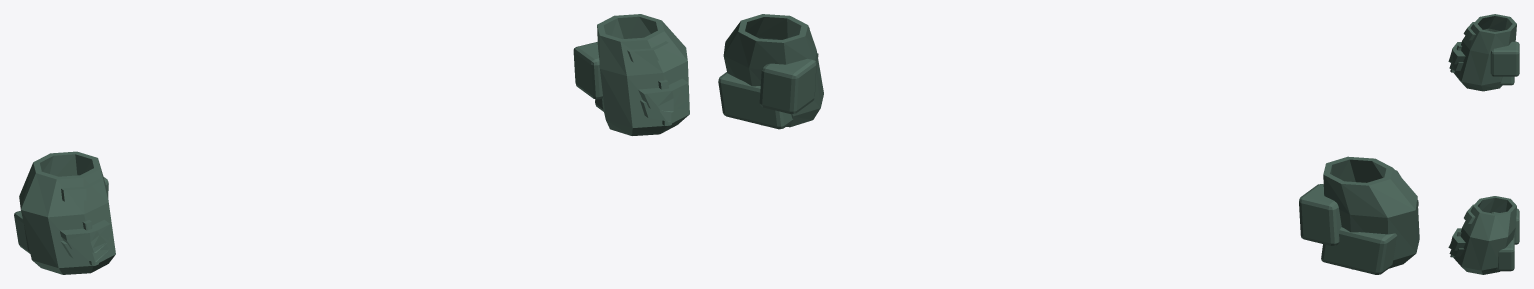
The model's file is leather_hands-female-scaledHide.glb.
3 views of the same model, side by side, from view 1: azimuth 30°, elevation 25°; view 2: azimuth 150°, elevation 25°; view 3: azimuth 270°, elevation 25° (orthographic). The views are drawn at different scales.
Visible parts, largest first — view 1: Block hand armor -1, Block hand armor 1, Block thumb armor 1, Lapped hide reinforcement Block hand armor -1 0, Lapped hide reinforcement Block hand armor 1 0, Glove turned wrist seam -1, Glove turned wrist seam 1, Lapped hide reinforcement Block hand armor 1 1, Lapped hide reinforcement Block hand armor -1 1; view 2: Block hand armor -1, Block hand armor 1, Block thumb armor 1, Block hand curl armor -1, Block hand curl armor 1, Block thumb armor -1; view 3: Block hand armor 1, Block hand armor -1, Block thumb armor -1, Block hand curl armor 1, Lapped hide reinforcement Block hand armor -1 0, Lapped hide reinforcement Block hand armor 1 0, Block thumb armor 1, Block hand curl armor -1, Glove turned wrist seam -1, Glove turned wrist seam 1, Lapped hide reinforcement Block hand armor -1 1, Lapped hide reinforcement Block hand armor 1 1.
Boxes of the visible parts, x1,y1,x2,y2 form: Block hand armor -1: (19, 151, 115, 274); Block hand armor 1: (597, 14, 689, 135); Block thumb armor 1: (573, 42, 602, 99); Lapped hide reinforcement Block hand armor -1 0: (60, 219, 110, 252); Lapped hide reinforcement Block hand armor 1 0: (638, 78, 688, 112); Glove turned wrist seam -1: (61, 179, 103, 201); Glove turned wrist seam 1: (627, 41, 673, 62); Lapped hide reinforcement Block hand armor 1 1: (640, 93, 687, 121); Lapped hide reinforcement Block hand armor -1 1: (60, 241, 109, 261); Block hand armor -1: (1323, 156, 1419, 269); Block hand armor 1: (723, 14, 823, 127); Block thumb armor 1: (759, 58, 816, 114); Block hand curl armor -1: (1321, 227, 1397, 274); Block hand curl armor 1: (718, 72, 793, 129); Block thumb armor -1: (1299, 184, 1341, 245); Block hand armor 1: (1453, 196, 1516, 274); Block hand armor -1: (1453, 14, 1516, 91); Block thumb armor -1: (1490, 41, 1519, 76); Block hand curl armor 1: (1496, 237, 1514, 271); Lapped hide reinforcement Block hand armor -1 0: (1448, 42, 1465, 64); Lapped hide reinforcement Block hand armor 1 0: (1448, 228, 1465, 250); Block thumb armor 1: (1491, 208, 1519, 244); Block hand curl armor -1: (1500, 76, 1514, 85); Glove turned wrist seam -1: (1463, 22, 1475, 40); Glove turned wrist seam 1: (1464, 204, 1475, 223); Lapped hide reinforcement Block hand armor -1 1: (1449, 62, 1463, 70); Lapped hide reinforcement Block hand armor 1 1: (1449, 248, 1464, 256).
Size of the model in its own units: 3.99 by 0.5018 by 0.5603.
